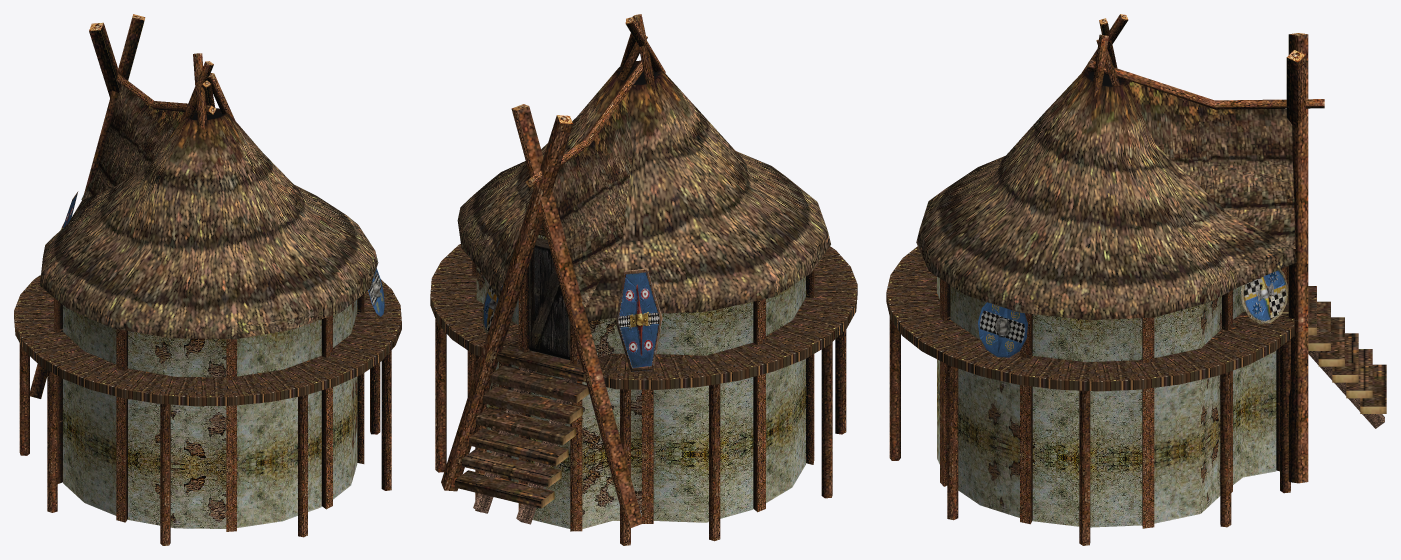
Rendered from brit_house.glb.
3 views of the same model, side by side, from view 1: azimuth 30°, elevation 25°; view 2: azimuth 150°, elevation 25°; view 3: azimuth 270°, elevation 25° (orthographic). The views are drawn at different scales.
Parts seen in each view (by area): view 1: brit_house_part0, brit_house_part2; view 2: brit_house_part0, brit_house_part1, brit_house_part2; view 3: brit_house_part0, brit_house_part2, brit_house_part1.
Boxes of the visible parts, x1,y1,x2,y2 form: brit_house_part0: (14, 14, 401, 545); brit_house_part2: (61, 191, 384, 316); brit_house_part0: (430, 14, 857, 545); brit_house_part1: (473, 238, 576, 524); brit_house_part2: (482, 268, 662, 371); brit_house_part0: (886, 14, 1386, 545); brit_house_part2: (978, 269, 1288, 357); brit_house_part1: (1308, 351, 1384, 428).
Size of the model in its own units: 2.03 by 2.35 by 2.4.
Materials: 3 (3 with a texture image).
